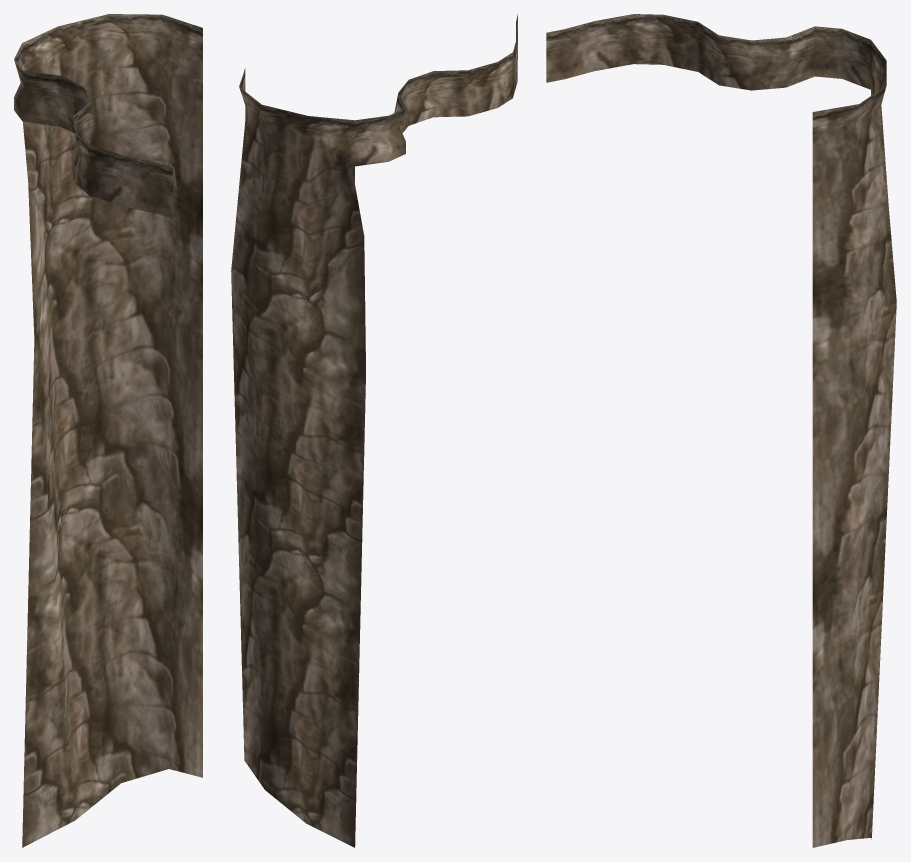
The model's file is OVERHILL_A_01_LINE111.fbx.
The picture shows the model from 3 angles, left to right: view 1: azimuth 30°, elevation 25°; view 2: azimuth 150°, elevation 25°; view 3: azimuth 270°, elevation 25°; orthographic projection. The views are drawn at different scales.
Parts seen in each view (by area): view 1: OVERHILL_A_01_LINE111; view 2: OVERHILL_A_01_LINE111; view 3: OVERHILL_A_01_LINE111.
Part boxes in pixels (x1,y1,x2,y2): OVERHILL_A_01_LINE111: (14, 14, 202, 847); OVERHILL_A_01_LINE111: (231, 14, 517, 847); OVERHILL_A_01_LINE111: (546, 14, 896, 847).
Bounding box in the file's own units: 73193 × 274946 × 110608.
Materials: 2 (2 with a texture image).
